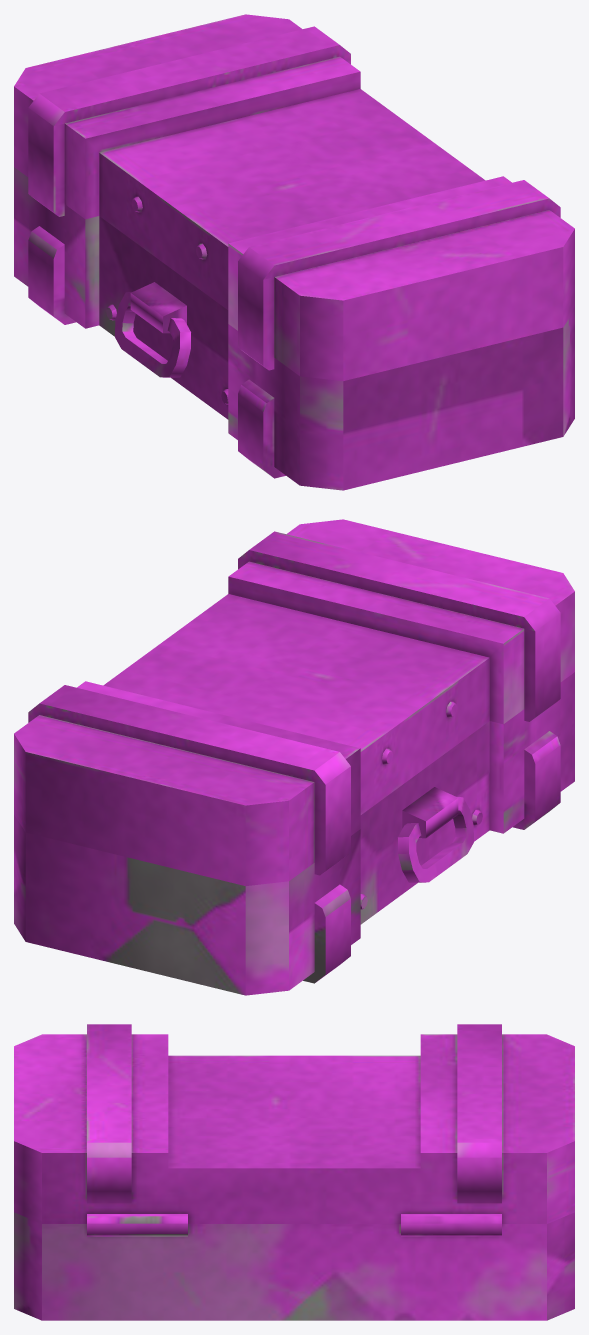
Rendered from crate-medium.glb.
3 views of the same model, one above another, from view 1: azimuth 30°, elevation 25°; view 2: azimuth 150°, elevation 25°; view 3: azimuth 270°, elevation 25° (orthographic). The views are drawn at different scales.
Visible parts, largest first — view 1: lid, crate-medium; view 2: lid, crate-medium; view 3: lid, crate-medium.
Boxes of the visible parts, bbox=[...] form: lid: bbox=[14, 14, 574, 381]; crate-medium: bbox=[14, 167, 574, 490]; lid: bbox=[14, 519, 574, 886]; crate-medium: bbox=[14, 672, 574, 995]; lid: bbox=[14, 1024, 574, 1223]; crate-medium: bbox=[14, 1212, 574, 1320].
Bounding box in the file's own units: 0.5495 × 0.37 × 1.
Materials: 1 (1 with a texture image).
